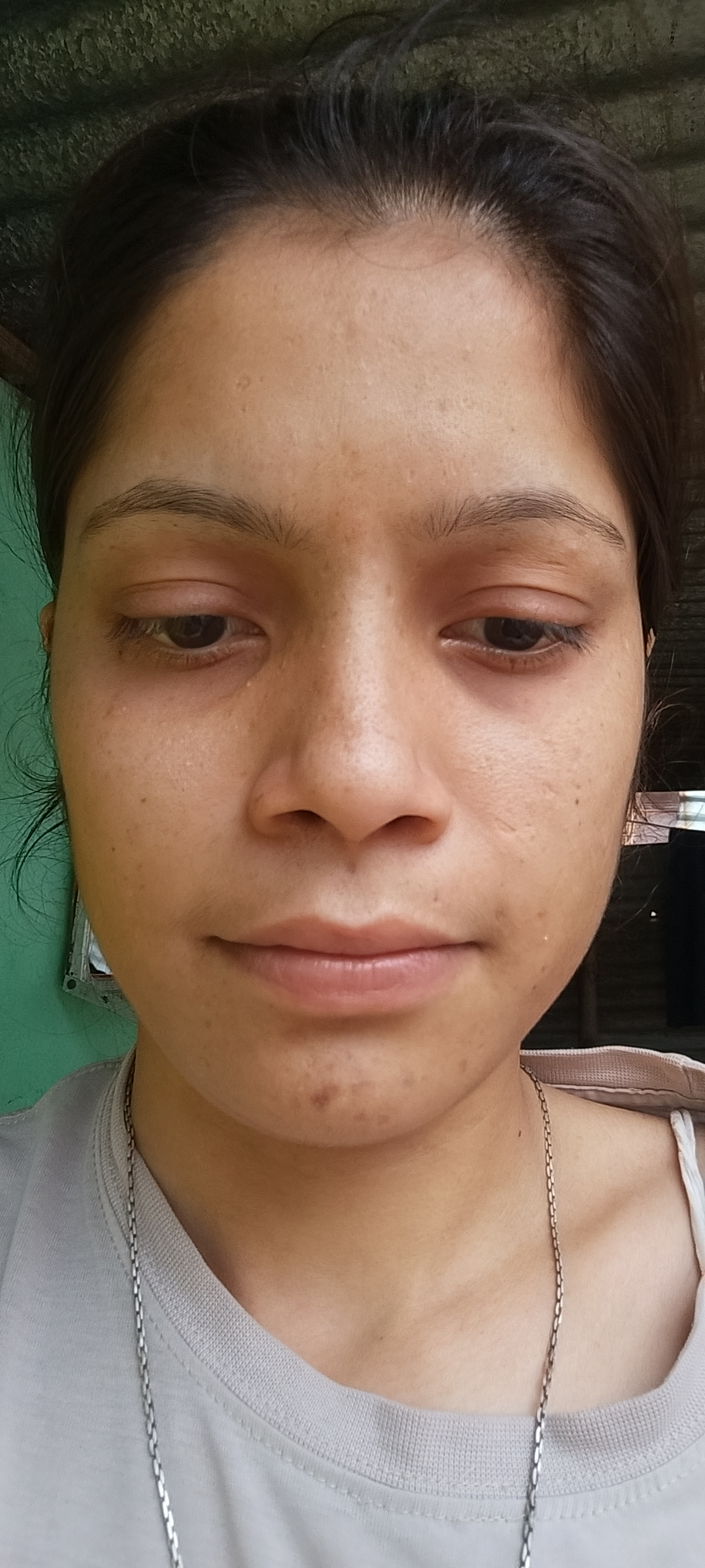closed_comedone: (183, 761, 192, 766), (244, 681, 251, 687)
papule: (542, 936, 549, 942)
